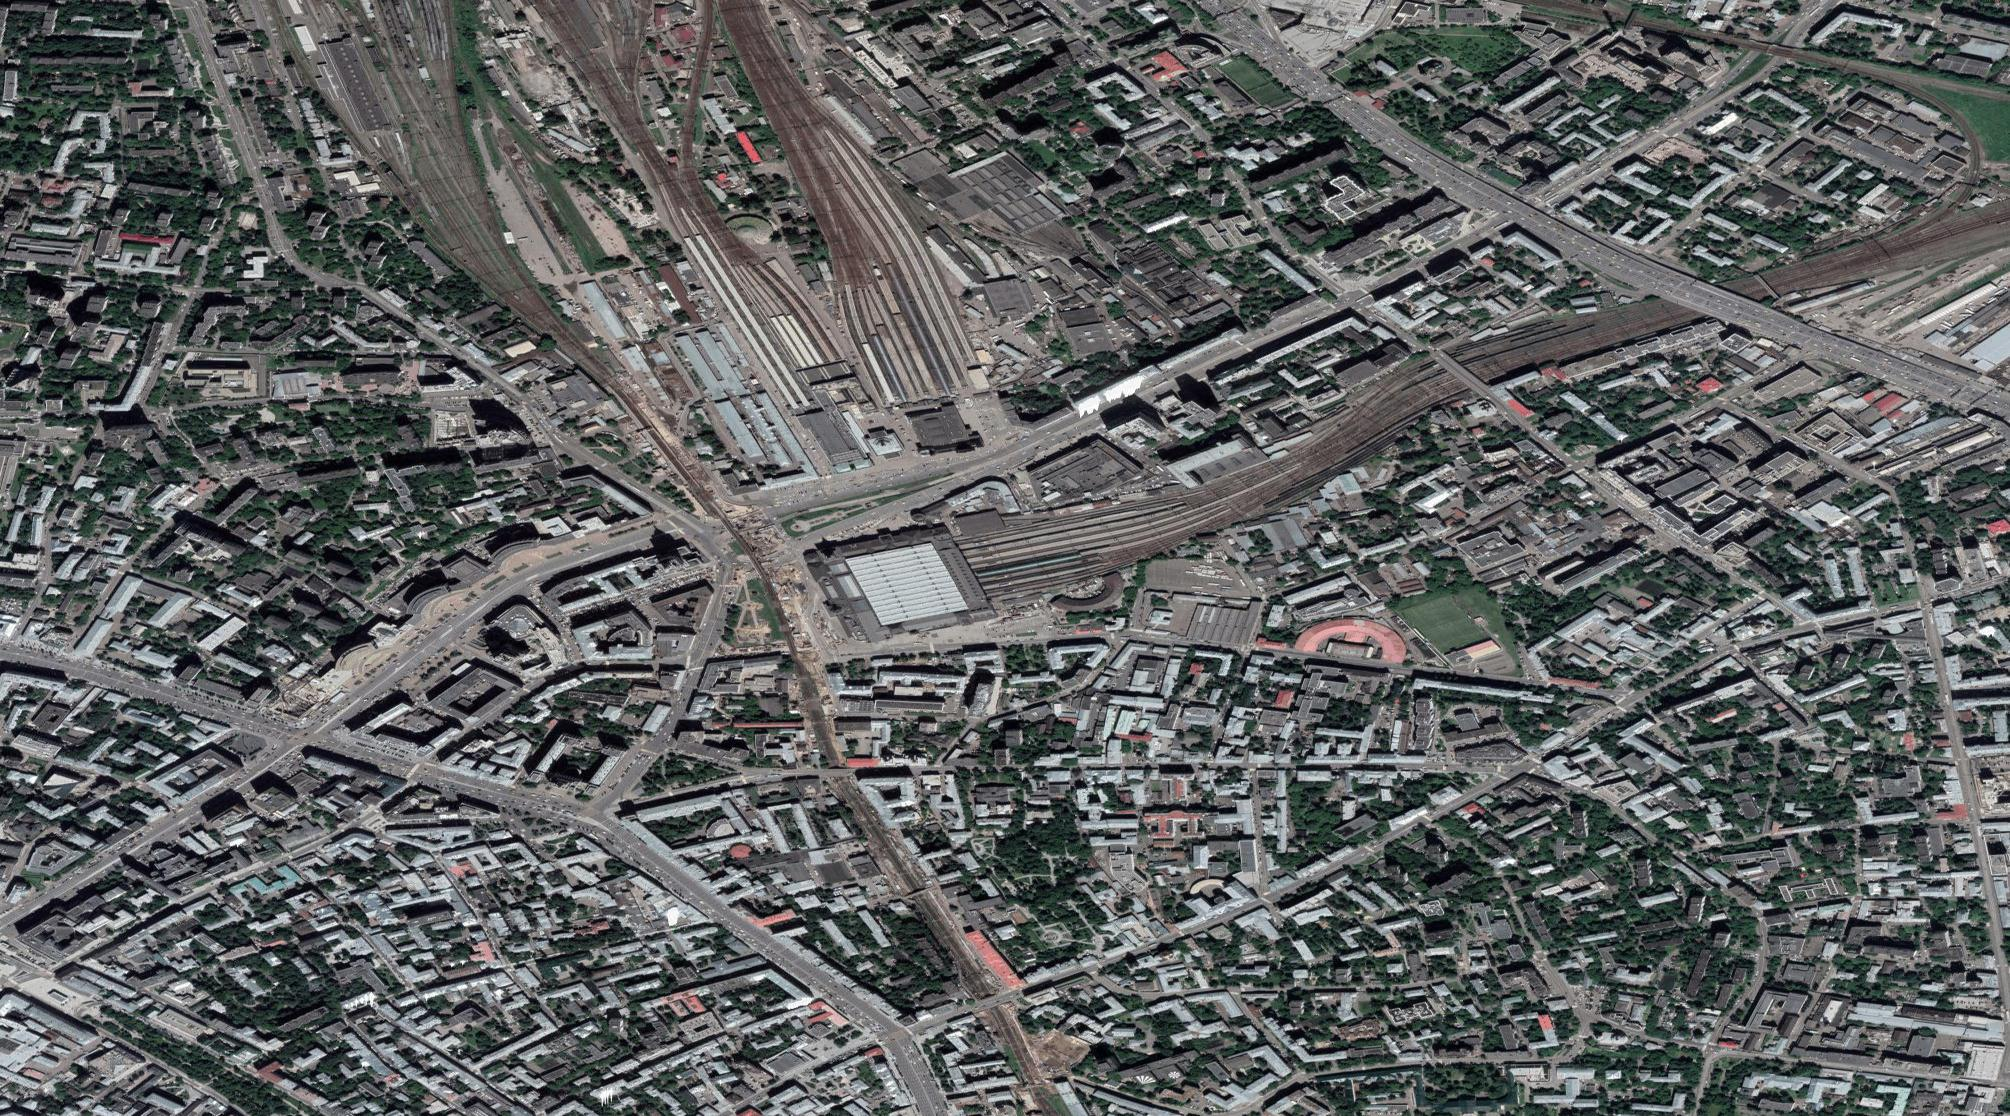motorway: (1717, 287, 2009, 425), (1515, 201, 1712, 313), (806, 966, 942, 1116), (1344, 104, 1520, 214), (523, 794, 688, 888), (1221, 5, 1352, 113), (174, 689, 348, 752), (348, 742, 519, 805), (1, 636, 172, 700), (687, 886, 805, 976)
train_station: (800, 502, 1026, 653)
